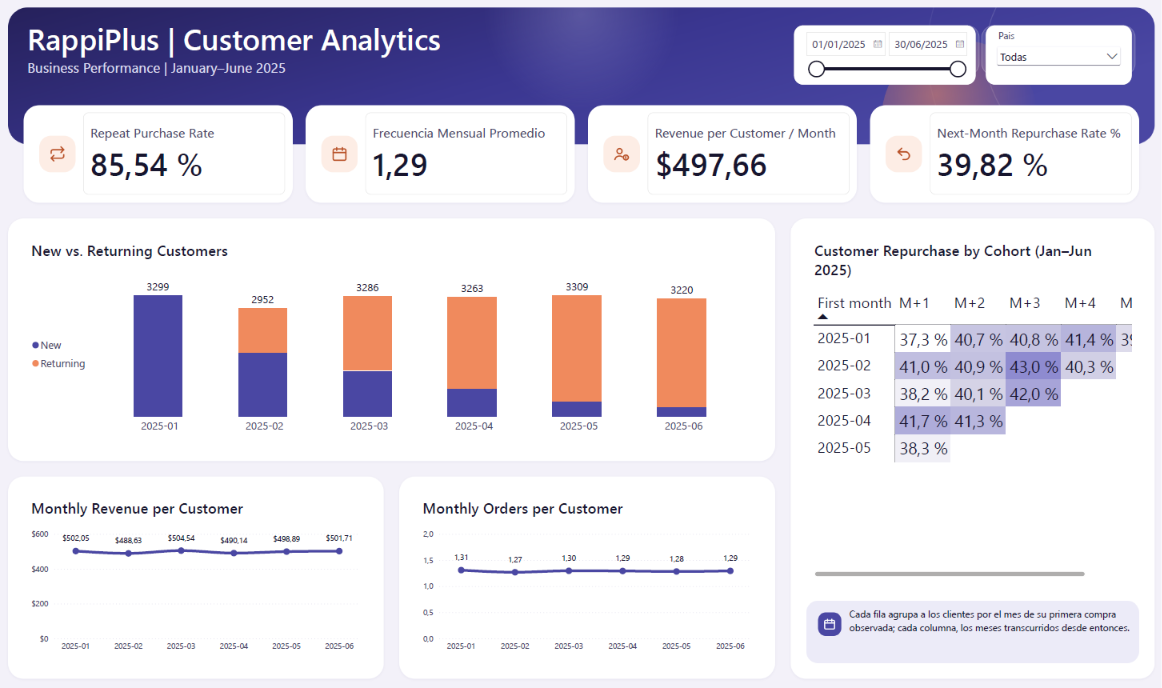

The dashboard page shown, as its layout file describes it:
{"tool":"powerbi","page":{"name":"Customer Analytics","canvas":[1920,1080],"ordinal":1},"visuals":[{"type":"cardVisual","fields":{"Data":["Medidas.Tasa de Recompra"]},"box":[248,186,310,126],"z":0},{"type":"cardVisual","fields":{"Data":["Medidas.Frecuencia Mensual Promedio"]},"box":[682,186,310,126],"z":1000},{"type":"cardVisual","fields":{"Data":["Medidas.Revenue Promedio por Usuario Mes"]},"box":[1116,186,310,126],"z":2000},{"type":"cardVisual","fields":{"Data":["Medidas.Next-Month Retention %"]},"box":[1550,186,310,126],"z":3000},{"type":"textbox","title":"RappiPlus | Customer Analytics","box":[162,42,1000,122],"z":4000},{"type":"columnChart","title":"New vs. Returning Customers","fields":{"Category":["dim_fecha.AñoMes"],"Y":["Medidas.Compradores Primera Compra Observada","Medidas.Compradores que Regresan"]},"box":[152,368,1140,333],"z":5000},{"type":"lineChart","title":"Monthly Orders per Customer","fields":{"Category":["dim_fecha.AñoMes"],"Y":["Medidas.Frecuencia Mensual Promedio"]},"box":[754,765,538,271],"z":6000},{"type":"lineChart","title":"Monthly Revenue per Customer","fields":{"Category":["dim_fecha.AñoMes"],"Y":["Medidas.Revenue Promedio por Usuario Mes"]},"box":[152,765,538,271],"z":7000},{"type":"pivotTable","title":"Customer Repurchase by Cohort (Jan–Jun 2025)","fields":{"Columns":["orders_clean.Periodo Cohorte"],"Rows":["orders_clean.Mes Primera Compra Observada.Variación.Jerarquía de fechas.Mes"],"Values":["Medidas.Recompra Cohorte %"]},"box":[1356,368,520,548],"z":8000},{"type":"slicer","fields":{"Values":["dim_fecha.Date"]},"box":[1341,52.5,278.7,90.5],"z":9000},{"type":"slicer","fields":{"Values":["dim_pais.Pais"]},"box":[1635.9,52.5,224.4,90.5],"z":10000},{"type":"textbox","box":[1426,946,432,76],"z":11000},{"type":"actionButton","box":[40,196,52,52],"z":12000},{"type":"actionButton","box":[40,130,52,52],"z":13000}]}

Visuals, with their boxes on the page's 1920x1080 design canvas (x1, y1, x2, y2). These are canvas units, not pixel positions in the 1162x688 screenshot, which may show the page scaled, cropped or inside an application window:
cardVisual - Medidas.Tasa de Recompra: pyautogui.locateOnScreen(248, 186, 558, 312)
cardVisual - Medidas.Frecuencia Mensual Promedio: pyautogui.locateOnScreen(682, 186, 992, 312)
cardVisual - Medidas.Revenue Promedio por Usuario Mes: pyautogui.locateOnScreen(1116, 186, 1426, 312)
cardVisual - Medidas.Next-Month Retention %: pyautogui.locateOnScreen(1550, 186, 1860, 312)
"RappiPlus | Customer Analytics" textbox: pyautogui.locateOnScreen(162, 42, 1162, 164)
"New vs. Returning Customers" columnChart: pyautogui.locateOnScreen(152, 368, 1292, 701)
"Monthly Orders per Customer" lineChart: pyautogui.locateOnScreen(754, 765, 1292, 1036)
"Monthly Revenue per Customer" lineChart: pyautogui.locateOnScreen(152, 765, 690, 1036)
"Customer Repurchase by Cohort (Jan–Jun 2025)" pivotTable: pyautogui.locateOnScreen(1356, 368, 1876, 916)
slicer - dim_fecha.Date: pyautogui.locateOnScreen(1341, 52, 1620, 143)
slicer - dim_pais.Pais: pyautogui.locateOnScreen(1636, 52, 1860, 143)
textbox: pyautogui.locateOnScreen(1426, 946, 1858, 1022)
actionButton: pyautogui.locateOnScreen(40, 196, 92, 248)
actionButton: pyautogui.locateOnScreen(40, 130, 92, 182)
